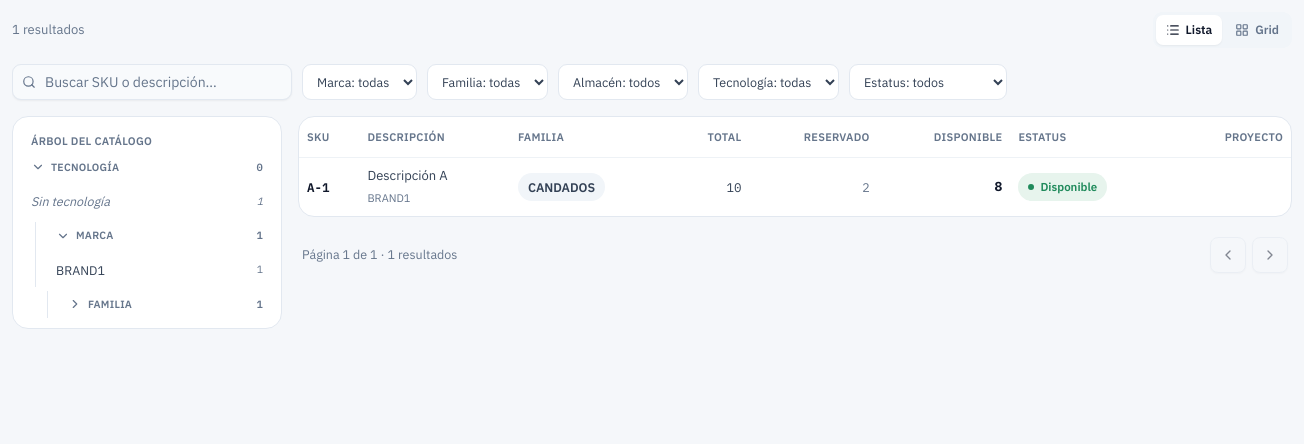
it: CatalogoView › cambiar de vista a Grid no dispara un nuevo fetch (misma página de datos)
Expected: the link "A-1" is shown, 307,176 -> 330,196
Click the button "Grid".
click(1257, 30)  # box 1225,15 -> 1289,45
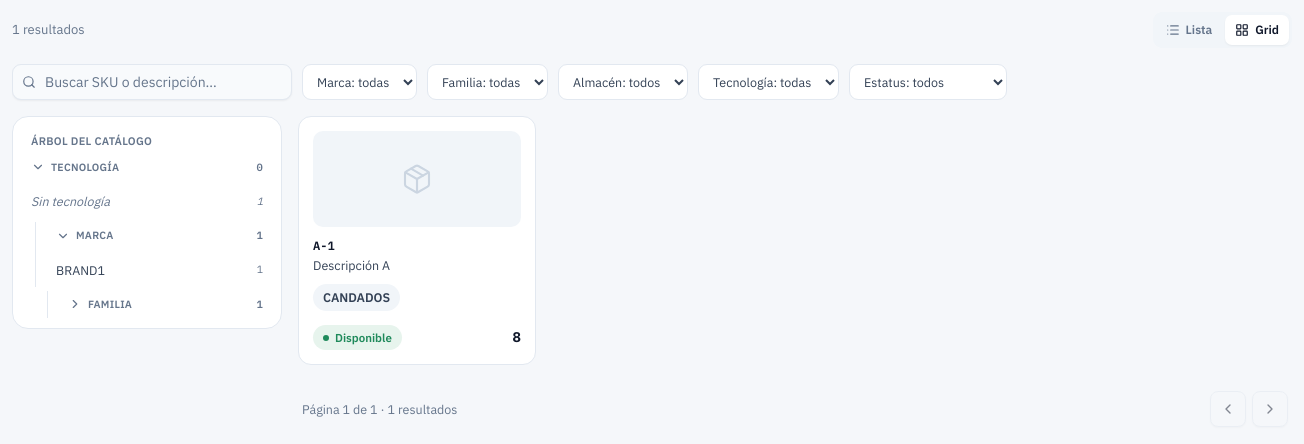
Now the link "A-1 Descripción A CANDADOS Disponible 8" is shown, box 298,116 -> 536,365
